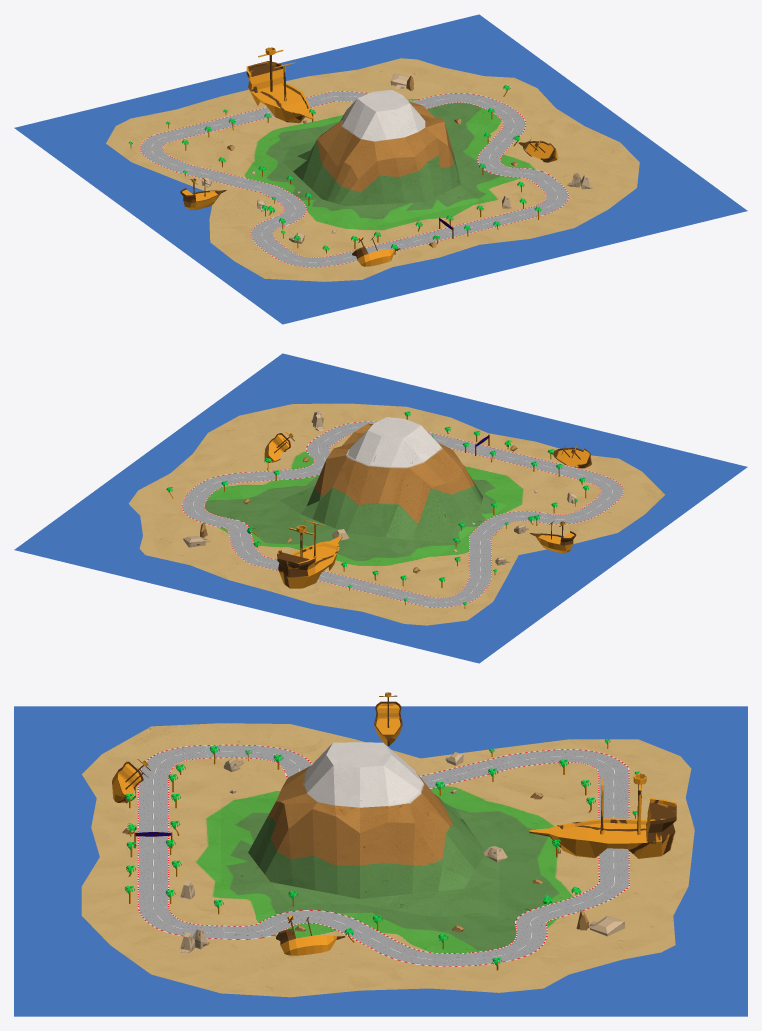
File: isla.obj
3 views of the same model, one above another, from view 1: azimuth 30°, elevation 25°; view 2: azimuth 150°, elevation 25°; view 3: azimuth 270°, elevation 25° (orthographic). The views are drawn at different scales.
Visible parts, largest first — view 1: TERRENO, mar, Carretera, BARCO.003_BARCO.002, BARCO.001, BARCO, BARCO.002_BARCO.003; view 2: TERRENO, mar, Carretera, BARCO.003_BARCO.002, BARCO.001, BARCO, BARCO.002_BARCO.003; view 3: TERRENO, mar, Carretera, BARCO.003_BARCO.002, BARCO.002_BARCO.003, BARCO.001, BARCO.
Boxes of the visible parts, bbox=[...] form: TERRENO: bbox=[106, 58, 639, 281]; mar: bbox=[14, 14, 747, 324]; Carretera: bbox=[140, 91, 568, 267]; BARCO.003_BARCO.002: bbox=[246, 47, 313, 123]; BARCO.001: bbox=[180, 178, 226, 209]; BARCO: bbox=[352, 236, 400, 266]; BARCO.002_BARCO.003: bbox=[518, 138, 557, 162]; TERRENO: bbox=[128, 403, 664, 625]; mar: bbox=[14, 353, 747, 663]; Carretera: bbox=[181, 421, 623, 607]; BARCO.003_BARCO.002: bbox=[277, 520, 342, 588]; BARCO.001: bbox=[530, 521, 576, 553]; BARCO: bbox=[548, 445, 591, 468]; BARCO.002_BARCO.003: bbox=[264, 432, 294, 462]; TERRENO: bbox=[81, 723, 694, 997]; mar: bbox=[14, 706, 747, 1016]; Carretera: bbox=[137, 744, 629, 966]; BARCO.003_BARCO.002: bbox=[529, 774, 676, 858]; BARCO.002_BARCO.003: bbox=[276, 916, 345, 955]; BARCO.001: bbox=[374, 692, 402, 745]; BARCO: bbox=[112, 759, 150, 803].
Bounding box in the file's own units: 970 × 175 × 970.
Materials: 8 (8 with a texture image).
